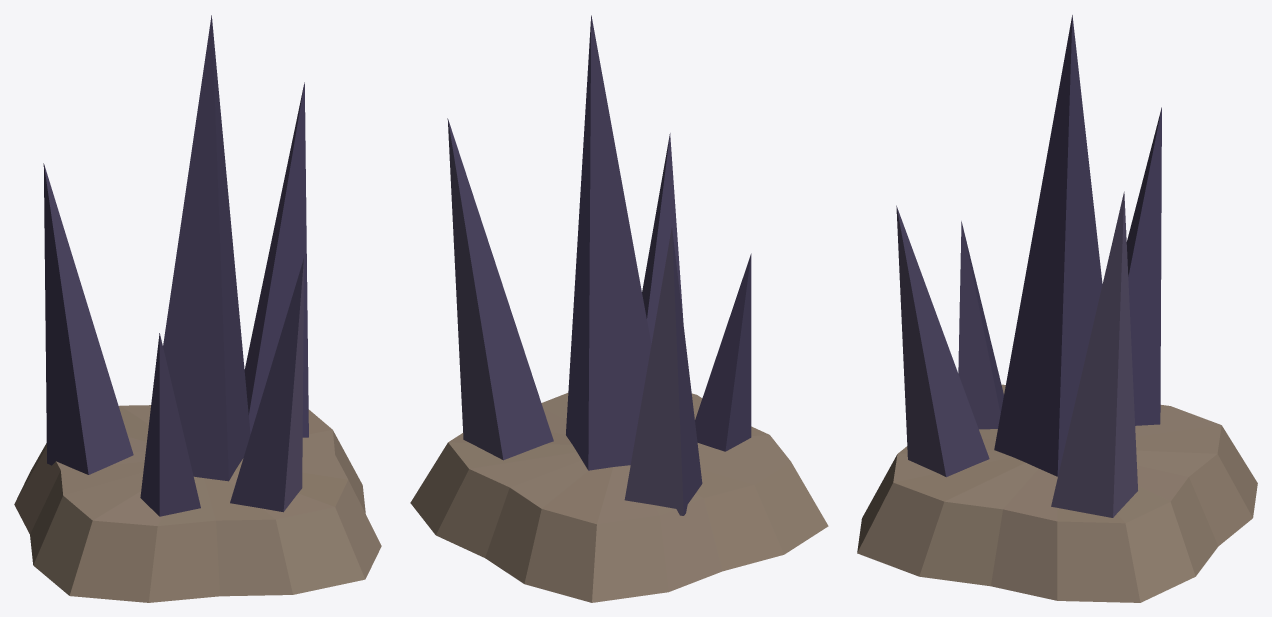
File: Obsidian_Cluster.glb
The picture shows the model from 3 angles, left to right: view 1: azimuth 30°, elevation 25°; view 2: azimuth 150°, elevation 25°; view 3: azimuth 270°, elevation 25°; orthographic projection. The views are drawn at different scales.
Visible parts, largest first — view 1: ObsidianCluster; view 2: ObsidianCluster; view 3: ObsidianCluster.
Part boxes in pixels (x1,y1,x2,y2): ObsidianCluster: [14, 15, 381, 602]; ObsidianCluster: [410, 15, 828, 602]; ObsidianCluster: [857, 15, 1257, 602].
Size of the model in its own units: 1.13 by 1.6 by 1.13.
